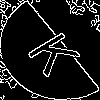K: (25, 25, 91, 78)
